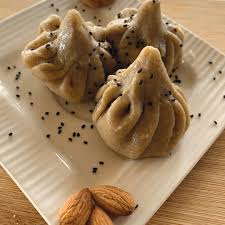modak: (91, 43, 195, 165), (29, 6, 117, 109), (101, 2, 199, 72)
